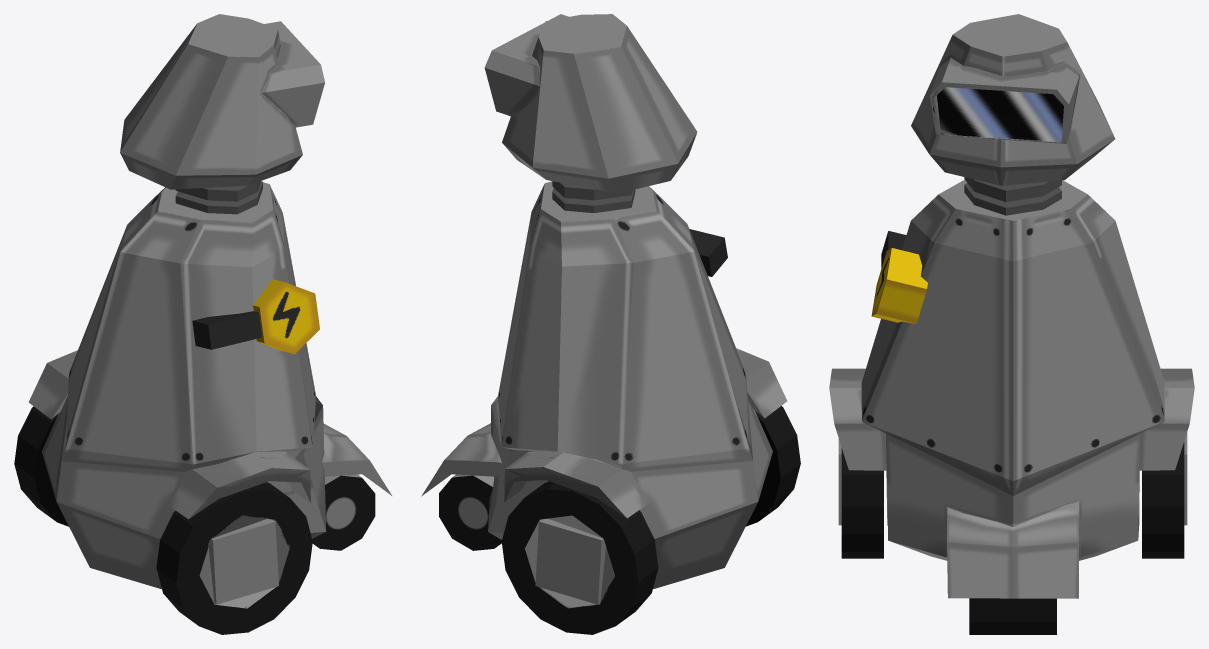
File: animatedrobot.fbx
3 views of the same model, side by side, from view 1: azimuth 30°, elevation 25°; view 2: azimuth 150°, elevation 25°; view 3: azimuth 270°, elevation 25° (orthographic). The views are drawn at different scales.
Visible parts, largest first — view 1: robot, head, wheels; view 2: robot, head, wheels; view 3: robot, head, wheels.
Boxes of the visible parts, box(x1,y1,x2,y2) form: robot: box(28, 182, 391, 588); head: box(120, 14, 324, 214); wheels: box(14, 406, 312, 634); robot: box(421, 181, 787, 588); head: box(484, 14, 697, 212); wheels: box(501, 406, 800, 634); robot: box(829, 179, 1194, 634); head: box(911, 14, 1115, 215); wheels: box(838, 432, 1187, 558).
Size of the model in its own units: 229 by 373 by 224.
